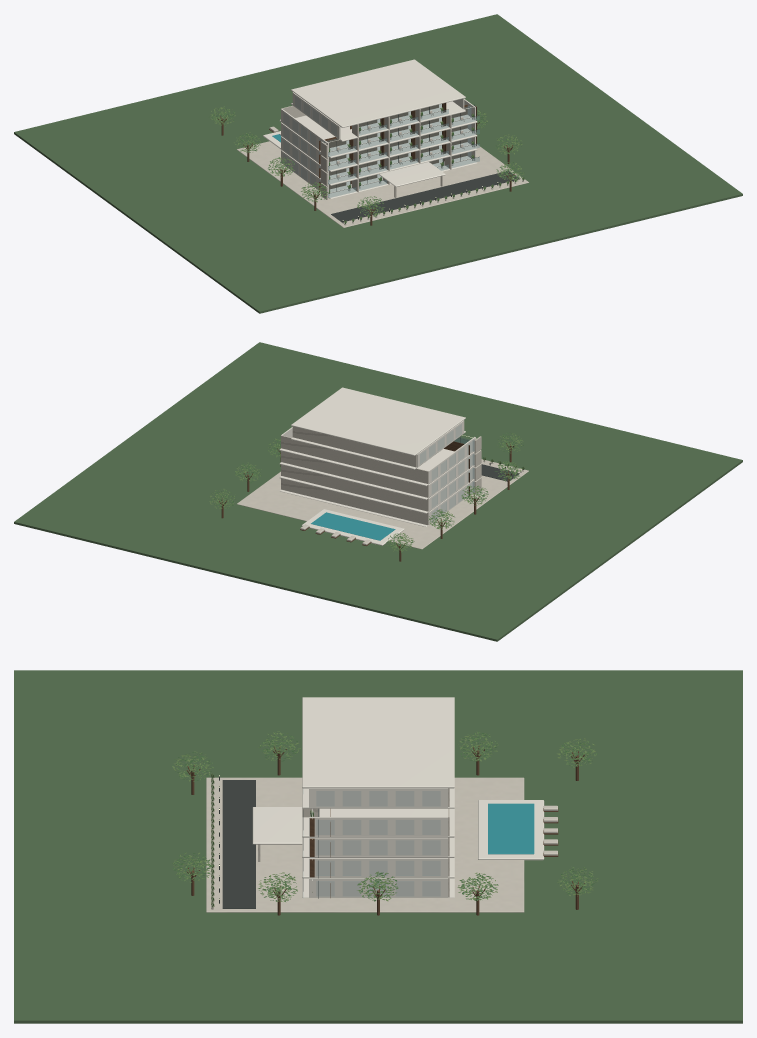
File: exterior.glb
3 views of the same model, one above another, from view 1: azimuth 30°, elevation 25°; view 2: azimuth 150°, elevation 25°; view 3: azimuth 270°, elevation 25° (orthographic). The views are drawn at different scales.
Parts seen in each view (by area): view 1: Site__Garden lawn, Floor_5__Ivory plaster, Site__Honed limestone, Site__Foliage, Floor_3__Ivory plaster, Site__Bronze frames, Floor_4__Ivory plaster, Floor_2__Ivory plaster, Floor_1__Ivory plaster, Floor_3__Blue glass, Floor_2__Blue glass, Floor_1__Blue glass (+8 smaller); view 2: Site__Garden lawn, Floor_5__Ivory plaster, Site__Honed limestone, Site__Foliage, Floor_3__Honed limestone, Floor_1__Honed limestone, Floor_2__Honed limestone, Floor_0__Honed limestone, Floor_3__Ivory plaster, Floor_4__Honed limestone, Floor_2__Ivory plaster, Floor_1__Ivory plaster (+5 smaller); view 3: Site__Garden lawn, Site__Honed limestone, Floor_5__Ivory plaster, Site__Foliage, Site__Bronze frames, Floor_3__Ivory plaster, Site__Ivory plaster, Floor_4__Ivory plaster, Floor_2__Ivory plaster, Floor_1__Ivory plaster, Floor_0__Ivory plaster, Site__Pool water (+6 smaller).
Boxes of the visible parts, <box> form: Site__Garden lawn: <box>14,14,742,313</box>; Floor_5__Ivory plaster: <box>291,59,465,127</box>; Site__Honed limestone: <box>237,141,528,227</box>; Site__Foliage: <box>208,63,524,223</box>; Floor_3__Ivory plaster: <box>279,99,477,158</box>; Site__Bronze frames: <box>331,171,519,223</box>; Floor_4__Ivory plaster: <box>291,92,465,141</box>; Floor_2__Ivory plaster: <box>279,122,477,171</box>; Floor_1__Ivory plaster: <box>279,136,477,185</box>; Floor_3__Blue glass: <box>283,105,479,156</box>; Floor_2__Blue glass: <box>284,124,479,170</box>; Floor_1__Blue glass: <box>284,138,479,184</box>; Site__Garden lawn: <box>14,342,742,641</box>; Floor_5__Ivory plaster: <box>291,387,465,455</box>; Site__Honed limestone: <box>237,459,528,549</box>; Site__Foliage: <box>209,432,524,552</box>; Floor_3__Honed limestone: <box>281,435,481,483</box>; Floor_1__Honed limestone: <box>281,464,481,511</box>; Floor_2__Honed limestone: <box>281,450,481,497</box>; Floor_0__Honed limestone: <box>281,477,481,525</box>; Floor_3__Ivory plaster: <box>279,427,475,486</box>; Floor_4__Honed limestone: <box>292,426,416,467</box>; Floor_2__Ivory plaster: <box>279,451,474,499</box>; Floor_1__Ivory plaster: <box>279,465,474,513</box>; Site__Garden lawn: <box>14,670,742,1023</box>; Site__Honed limestone: <box>206,777,524,912</box>; Floor_5__Ivory plaster: <box>302,697,454,788</box>; Site__Foliage: <box>172,731,598,906</box>; Site__Bronze frames: <box>219,775,255,908</box>; Floor_3__Ivory plaster: <box>302,808,454,837</box>; Site__Ivory plaster: <box>252,800,544,860</box>; Floor_4__Ivory plaster: <box>302,788,454,808</box>; Floor_2__Ivory plaster: <box>302,837,454,857</box>; Floor_1__Ivory plaster: <box>302,858,454,878</box>; Floor_0__Ivory plaster: <box>302,878,454,897</box>; Site__Pool water: <box>488,803,534,854</box>.
Bounding box in the file's own units: 125 × 17.76 × 110.
Materials: 11 (3 with a texture image).
